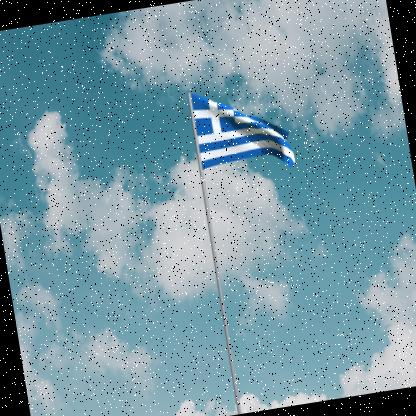gr: (192, 80, 298, 184)
